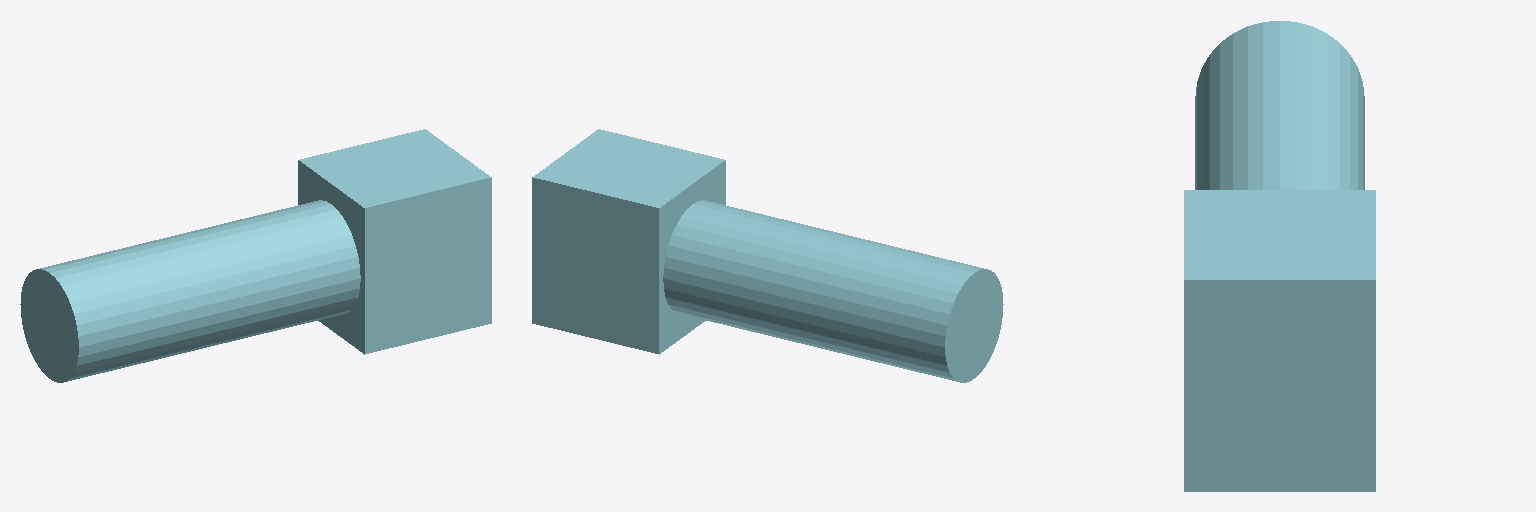
The robot description file, URDF, robot "cylinder_brush_v9009":
<?xml version="1.0"?>
<robot name="cylinder_brush_v9009">

  <link name="cylinder_brush_v9009">
    <!-- Handle -->
    <visual>
      <origin xyz="0 0 0" rpy="0 1.5707963267948966 0"/>
      <geometry>
        <cylinder length="0.11289085818512078" radius="0.020291661037710615"/>
      </geometry>
      <material name="material">
        <color rgba="0.639 0.847 0.882 1.0"/>
      </material>
    </visual>
    <collision>
      <origin xyz="0 0 0" rpy="0 1.5707963267948966 0"/>
      <geometry>
        <cylinder length="0.11289085818512078" radius="0.020291661037710615"/>
      </geometry>
    </collision>

    <!-- Head -->
    <visual>
      <origin xyz="0.08188187482050285 0 0" rpy="0 0 0"/>
      <geometry>
        <box size="0.05087289145588493 0.045920571126207566 0.056011503352299694"/>
      </geometry>
      <material name="material">
        <color rgba="0.639 0.847 0.882 1.0"/>
      </material>
    </visual>
    <collision>
      <origin xyz="0.08188187482050285 0 0" rpy="0 0 0"/>
      <geometry>
        <box size="0.05087289145588493 0.045920571126207566 0.056011503352299694"/>
      </geometry>
    </collision>

    <inertial>
      <density value="400.0"/>
    </inertial>
  </link>

</robot>

--- What the picture shows (computed from the rendered views, not written in the file) ---
The picture shows the robot from 3 angles, left to right: view 1: azimuth 30°, elevation 25°; view 2: azimuth 150°, elevation 25°; view 3: azimuth 270°, elevation 25°; orthographic projection.
Robot: cylinder_brush_v9009 — 1 links, 0 joints (none); root link cylinder_brush_v9009; default pose: every joint at zero.
Visible links, largest first — view 1: cylinder_brush_v9009; view 2: cylinder_brush_v9009; view 3: cylinder_brush_v9009.
Boxes of the visible links, x1,y1,x2,y2 form: cylinder_brush_v9009: (20, 129, 491, 382); cylinder_brush_v9009: (532, 129, 1003, 382); cylinder_brush_v9009: (1184, 21, 1375, 491).
Size in the robot's own frame: 0.1638 by 0.0459 by 0.056 metres.
Geometry: primitives only (box / cylinder / sphere), no mesh files.
